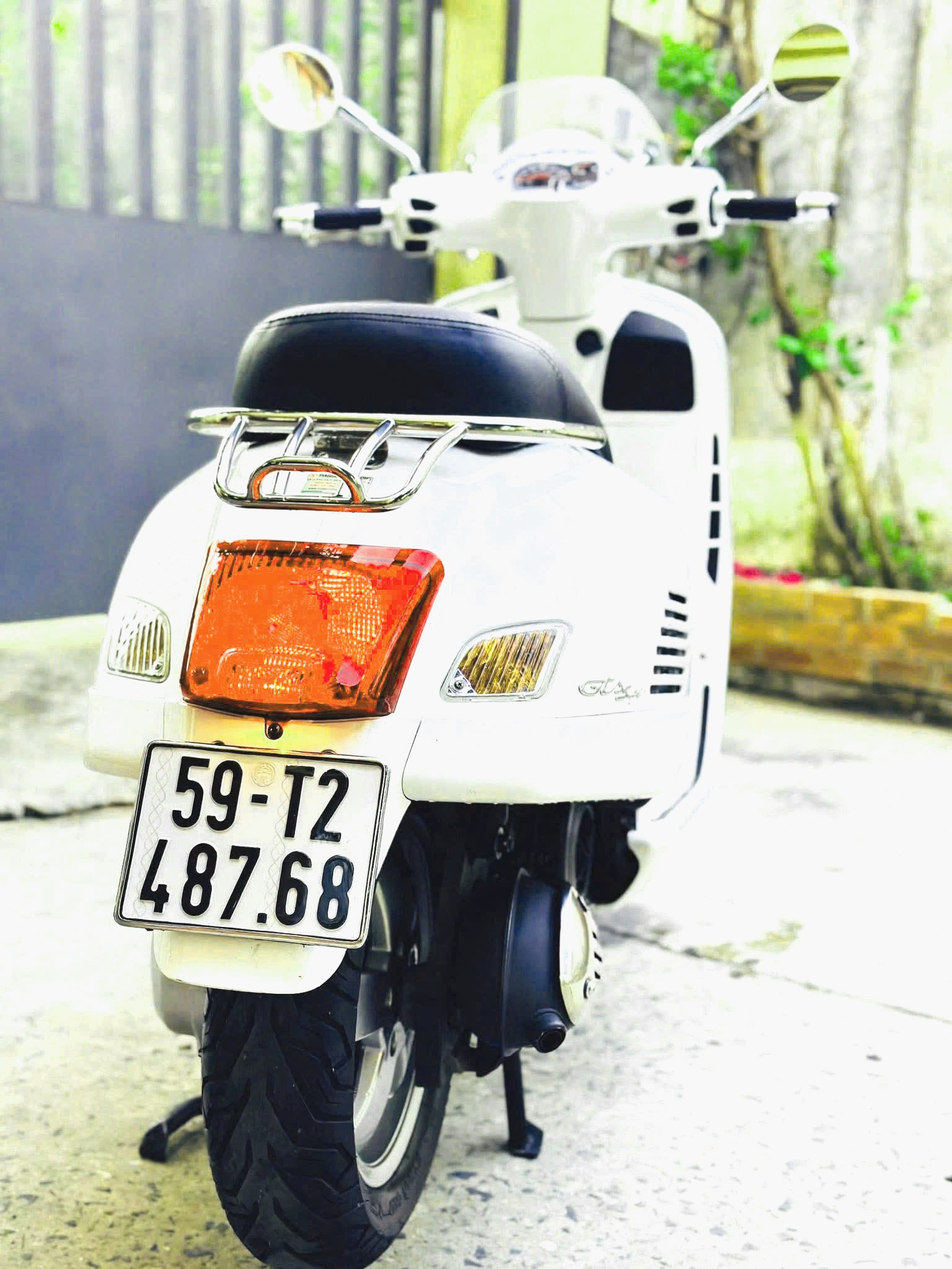Bien-so: (145, 777, 412, 962)
